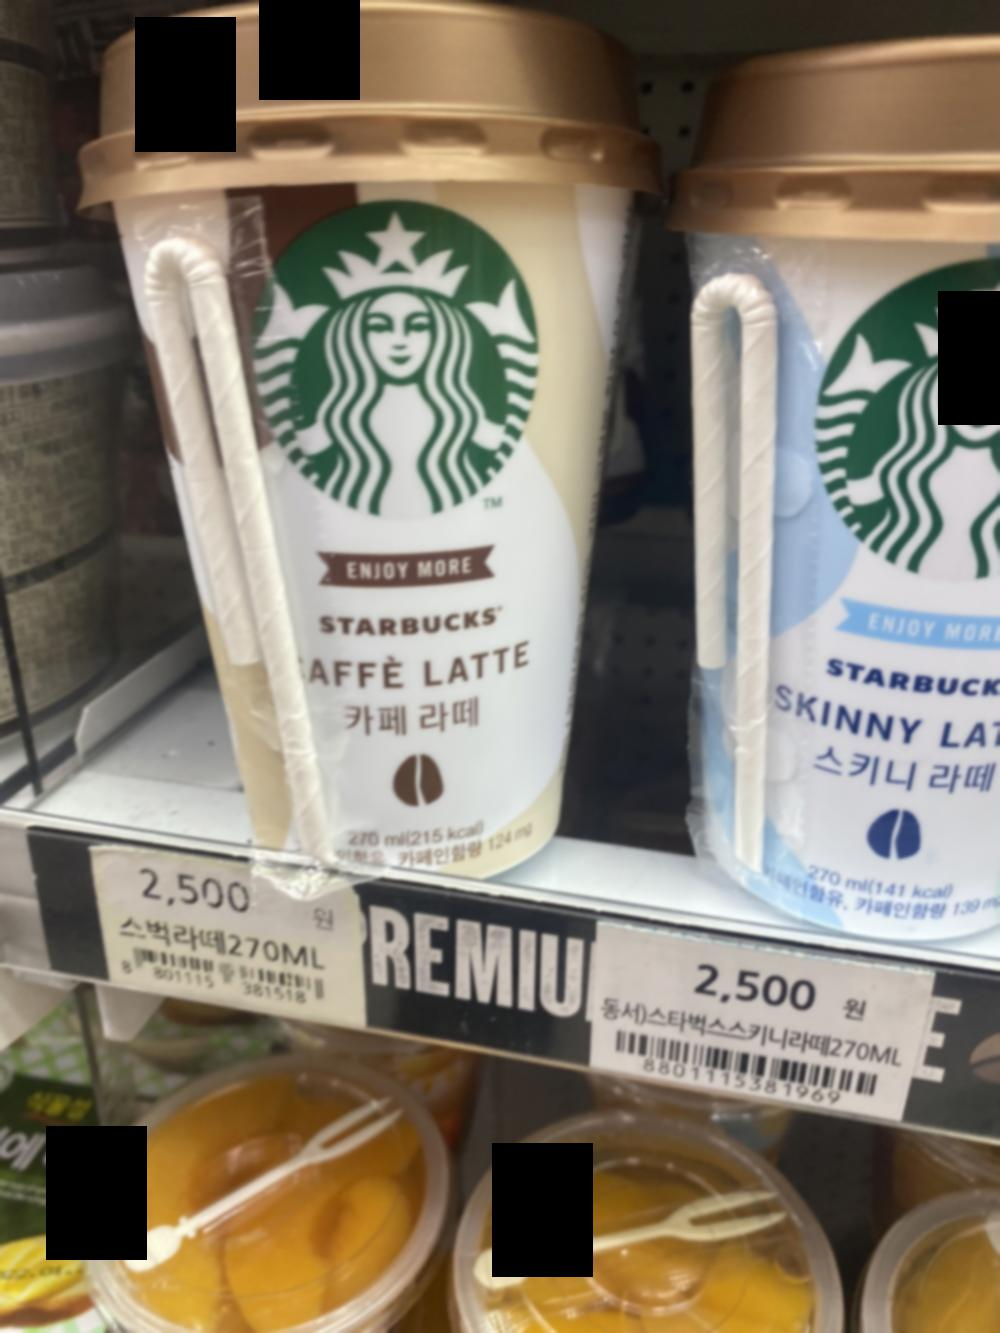starbucks_cafelatte: (55, 0, 678, 873)
